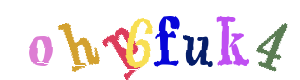4: (219, 0, 299, 80)
6: (108, 0, 188, 80)
F: (120, 0, 200, 80)
H: (81, 0, 161, 80)
K: (157, 0, 237, 80)
O: (40, 0, 120, 80)
P: (91, 0, 171, 80)
U: (126, 0, 206, 80)
